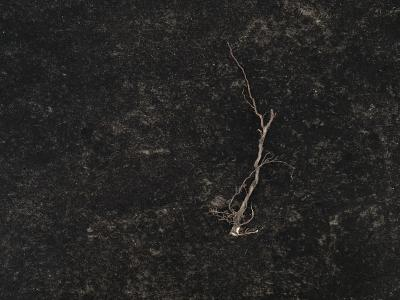Root: (228, 43, 295, 236)
